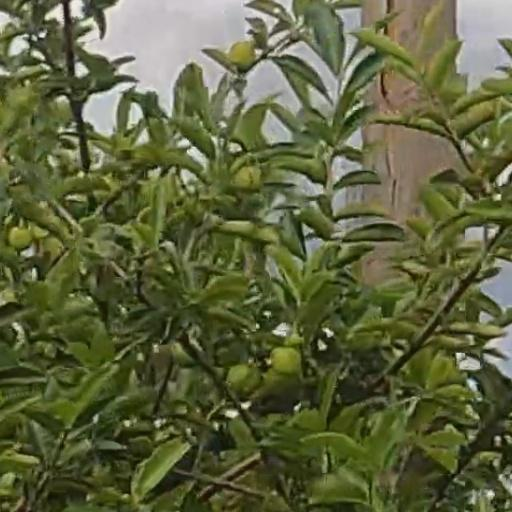acerola: (228, 365, 260, 395), (273, 349, 303, 378)
